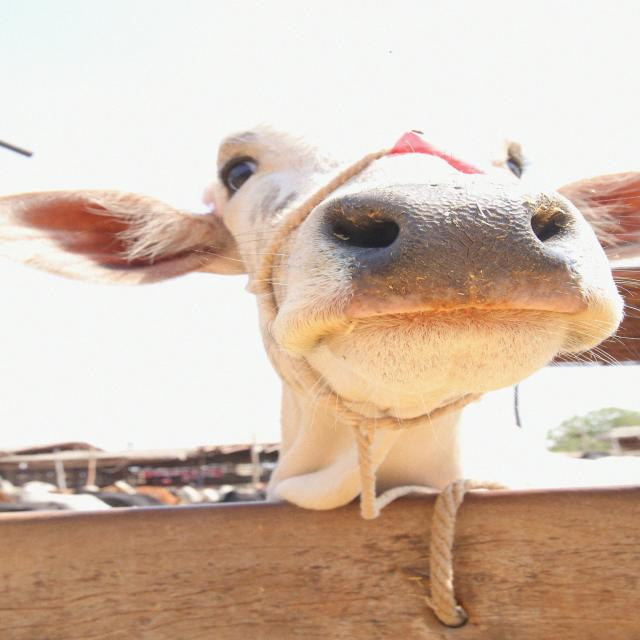muzzles: (292, 177, 600, 337)
